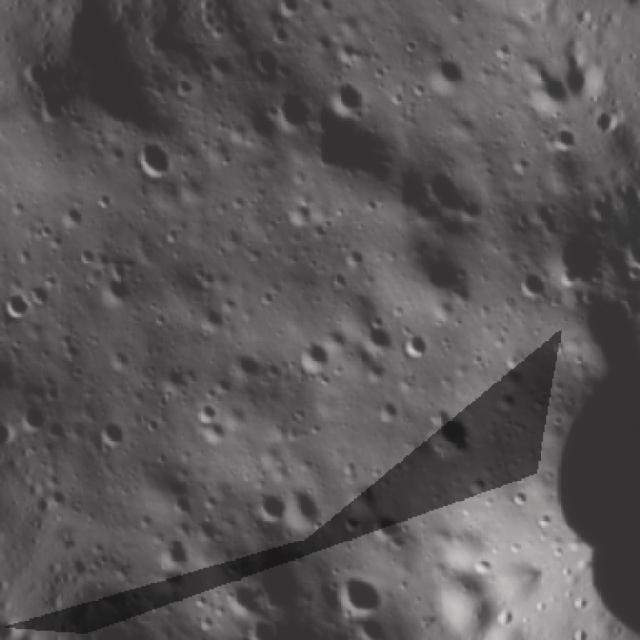crater: (68, 49, 185, 173), (414, 151, 497, 244), (411, 397, 486, 472), (541, 220, 613, 297), (323, 561, 395, 633), (275, 478, 334, 542), (263, 81, 319, 141), (420, 49, 475, 106), (128, 135, 180, 188), (320, 72, 371, 126), (289, 332, 337, 380), (247, 483, 295, 531), (93, 265, 141, 312), (506, 260, 552, 309), (367, 504, 416, 550), (90, 409, 136, 457), (152, 533, 198, 581), (354, 315, 400, 362), (189, 299, 234, 343), (224, 344, 267, 388), (13, 396, 56, 439), (394, 328, 435, 368), (0, 284, 38, 327), (202, 48, 242, 87), (248, 43, 286, 83), (54, 199, 92, 238), (167, 488, 204, 527), (347, 607, 390, 640), (194, 414, 232, 451), (281, 199, 317, 236), (102, 343, 138, 380), (167, 68, 201, 104), (339, 240, 370, 278), (240, 612, 282, 640), (370, 392, 404, 426), (189, 397, 225, 429), (221, 116, 254, 150), (545, 120, 577, 154), (92, 189, 116, 216)
